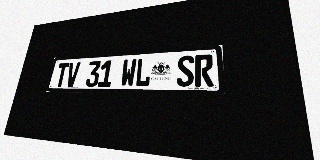1: (98, 60, 114, 87)
3: (85, 61, 101, 87)
L: (135, 58, 152, 87)
R: (195, 54, 214, 87)
S: (176, 55, 194, 87)
T: (54, 63, 70, 87)
V: (65, 62, 81, 87)
W: (120, 59, 137, 87)
